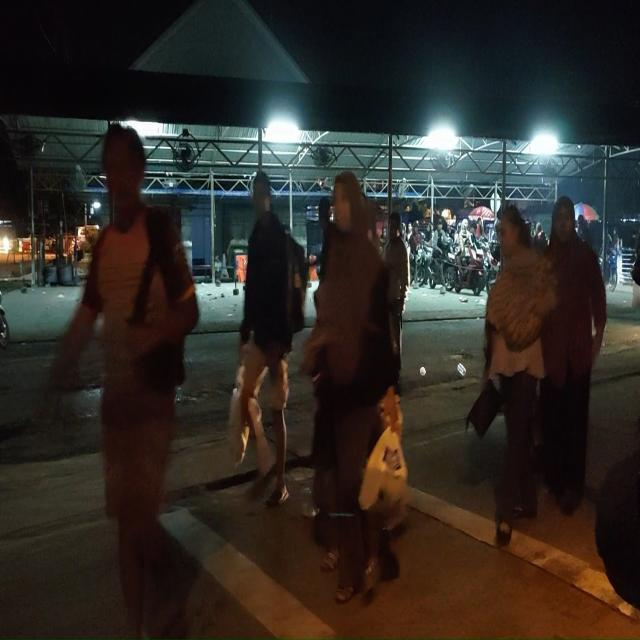Golongan II: (454, 247, 486, 296), (482, 242, 500, 294), (410, 242, 429, 287), (443, 238, 458, 292), (599, 249, 618, 291), (428, 248, 447, 289), (0, 292, 10, 349)
